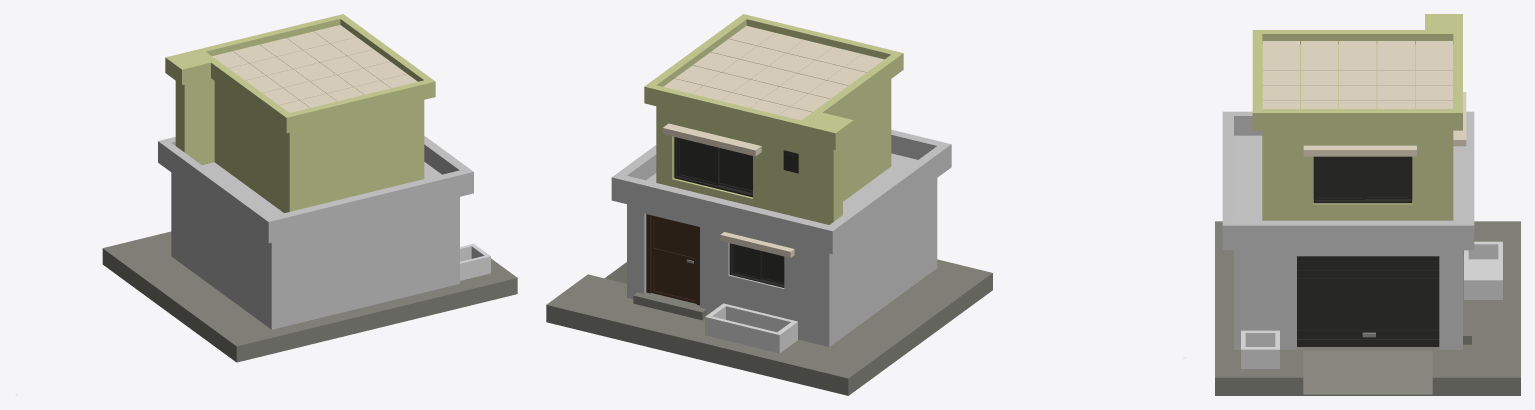
The model's file is Casa estrato 5.glb.
The picture shows the model from 3 angles, left to right: view 1: azimuth 30°, elevation 25°; view 2: azimuth 150°, elevation 25°; view 3: azimuth 270°, elevation 25°; orthographic projection. The views are drawn at different scales.
Visible parts, largest first — view 1: Cube.008, Cube.007, Cube.014, Cube.034, Cube.162; view 2: Cube.008, Cube.007, Cube.014, Cube.034, Cube.026, Cube.013, Cube.162; view 3: Cube.008, Cube.007, Cube.014, Cube.034, Cube.015, Cube.026, Cube.162.
Part boxes in pixels (left/top/right/bottom): Cube.008: left=158, top=136, right=473, bottom=329; Cube.007: left=165, top=14, right=435, bottom=212; Cube.014: left=102, top=231, right=517, bottom=362; Cube.034: left=212, top=25, right=417, bottom=112; Cube.162: left=460, top=243, right=490, bottom=280; Cube.008: left=611, top=129, right=951, bottom=346; Cube.007: left=644, top=14, right=903, bottom=224; Cube.014: left=546, top=259, right=992, bottom=395; Cube.034: left=662, top=25, right=884, bottom=257; Cube.026: left=674, top=137, right=798, bottom=287; Cube.013: left=646, top=214, right=699, bottom=305; Cube.162: left=705, top=303, right=797, bottom=353; Cube.008: left=1222, top=111, right=1474, bottom=349; Cube.007: left=1252, top=14, right=1462, bottom=220; Cube.014: left=1215, top=221, right=1520, bottom=395; Cube.034: left=1262, top=41, right=1466, bottom=156; Cube.015: left=1297, top=256, right=1439, bottom=346; Cube.026: left=1313, top=156, right=1412, bottom=203; Cube.162: left=1241, top=241, right=1502, bottom=368.
Size of the model in its own units: 10.93 by 4.69 by 5.27.
